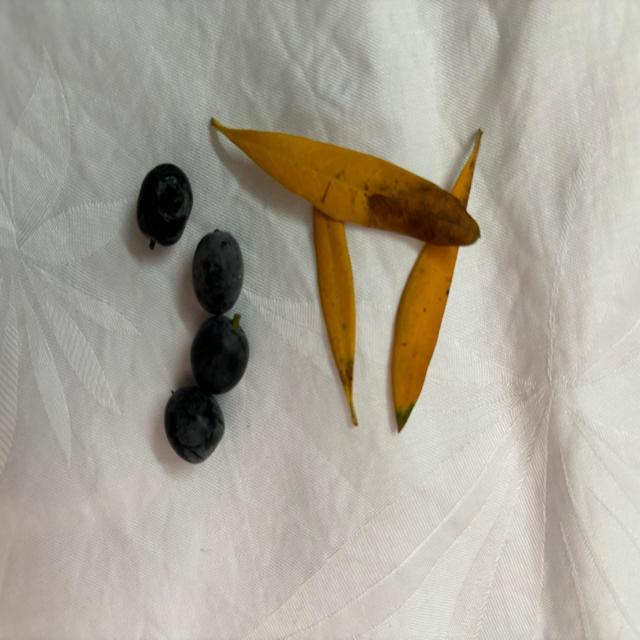Healthy: (190, 313, 250, 395), (137, 163, 193, 249), (164, 385, 224, 463), (192, 229, 244, 316)
Peacock Eye: (210, 119, 480, 247), (390, 245, 458, 431), (313, 207, 356, 425)
